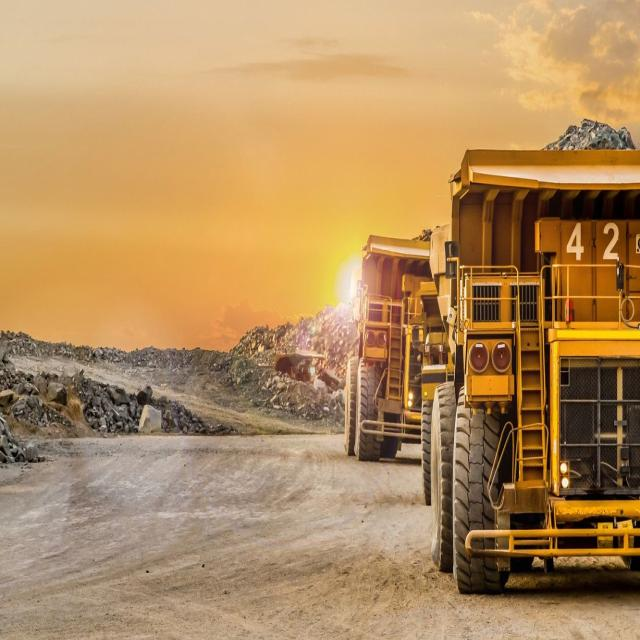dump_truck: (406, 112, 640, 589), (328, 218, 480, 511)
